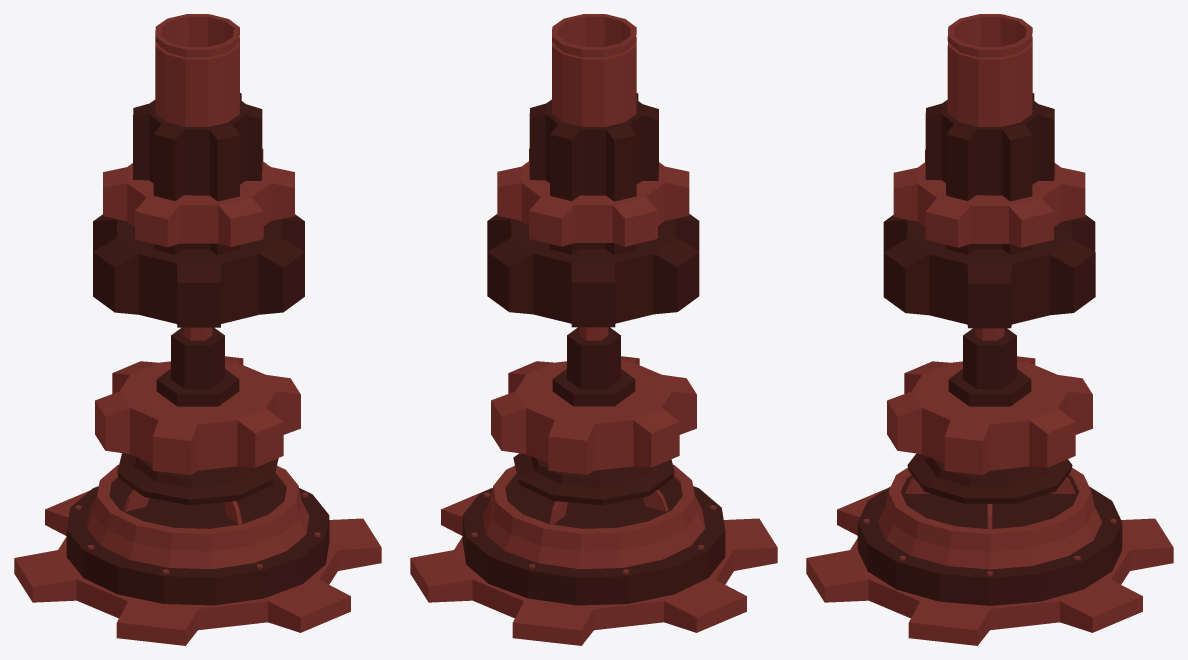
Rendered from Upwards_1.glb.
3 views of the same model, side by side, from view 1: azimuth 30°, elevation 25°; view 2: azimuth 150°, elevation 25°; view 3: azimuth 270°, elevation 25° (orthographic).
Visible parts, largest first — view 1: Upwards_1_Base, Upwards_1_Gun, Upwards_1_Mid; view 2: Upwards_1_Gun, Upwards_1_Base, Upwards_1_Mid; view 3: Upwards_1_Gun, Upwards_1_Base, Upwards_1_Mid.
Part boxes in pixels (x1,y1,x2,y2): Upwards_1_Base: (14, 453, 381, 645); Upwards_1_Gun: (93, 14, 304, 327); Upwards_1_Mid: (95, 327, 300, 474); Upwards_1_Gun: (487, 14, 699, 327); Upwards_1_Base: (410, 453, 777, 645); Upwards_1_Mid: (491, 327, 696, 474); Upwards_1_Gun: (883, 14, 1095, 328); Upwards_1_Base: (806, 453, 1173, 645); Upwards_1_Mid: (887, 328, 1092, 474).
Bounding box in the file's own units: 0.9224 × 1.49 × 0.9224.
